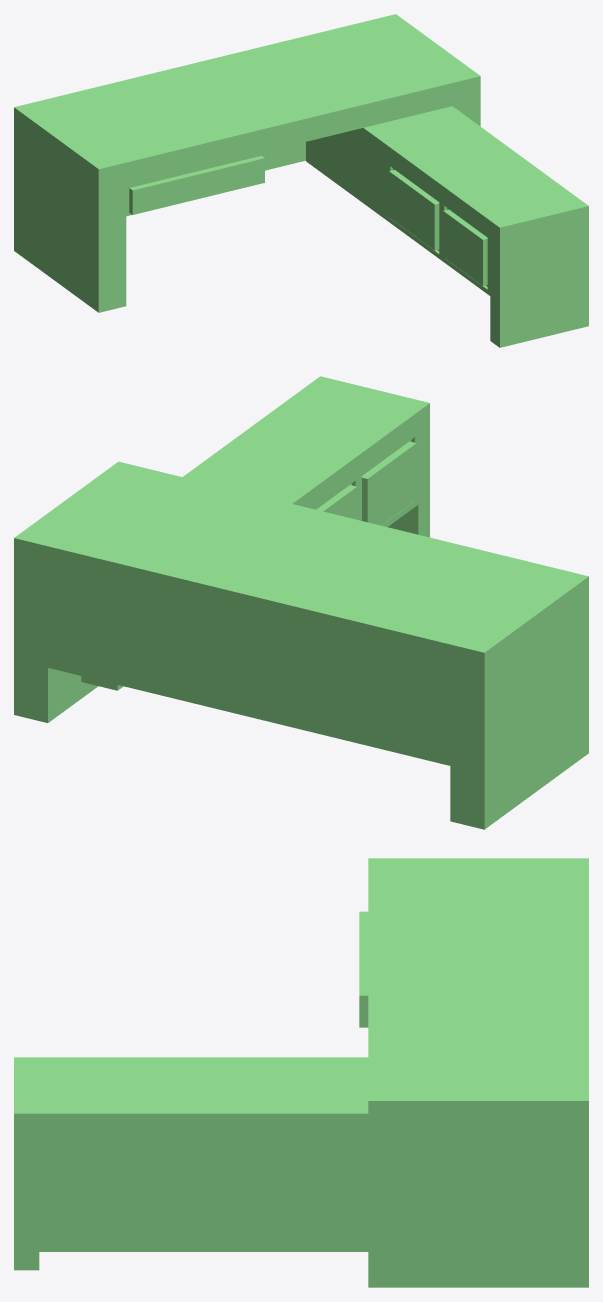
File: Desk_3.FBX
The picture shows the model from 3 angles, top to bottom: view 1: azimuth 30°, elevation 25°; view 2: azimuth 150°, elevation 25°; view 3: azimuth 270°, elevation 25°; orthographic projection. The views are drawn at different scales.
Visible parts, largest first — view 1: Desk_3; view 2: Desk_3; view 3: Desk_3.
Boxes of the visible parts, box(x1,y1,x2,y2) form: Desk_3: box(14, 14, 588, 347); Desk_3: box(14, 376, 588, 829); Desk_3: box(14, 858, 588, 1287).
Bounding box in the file's own units: 3.38 × 1.22 × 3.39.
